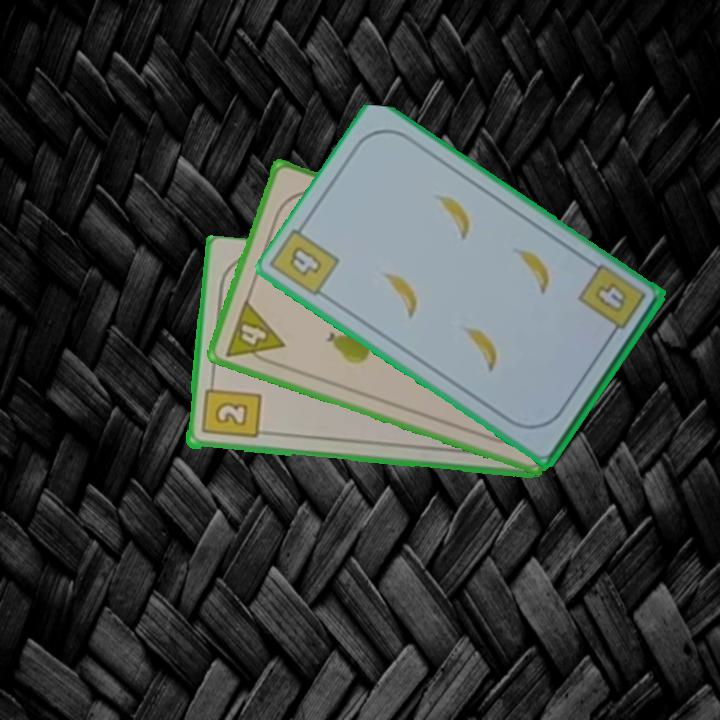2b: (198, 376, 263, 442)
4b: (574, 264, 649, 343), (285, 242, 325, 280)
4p: (221, 296, 287, 370)
